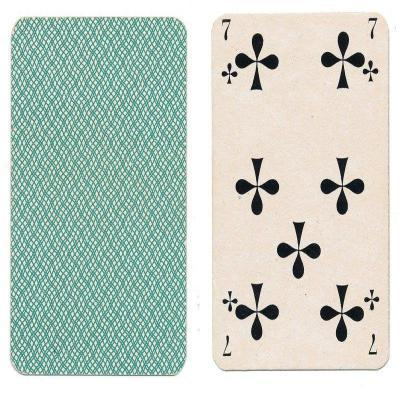graphics: (210, 10, 391, 372), (9, 16, 188, 378)
